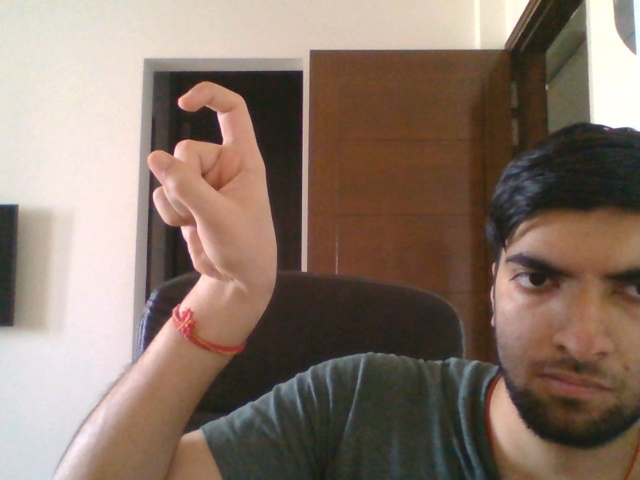LetterZ: (145, 76, 286, 294)
